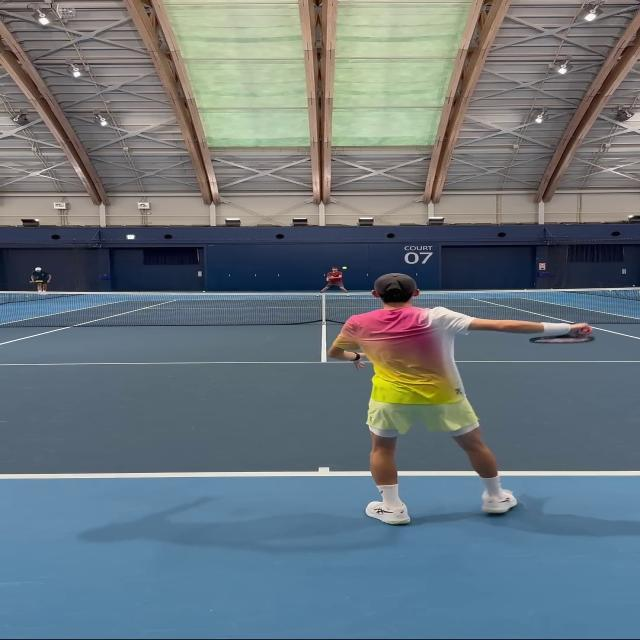tennis_ball: (342, 267, 347, 269)
